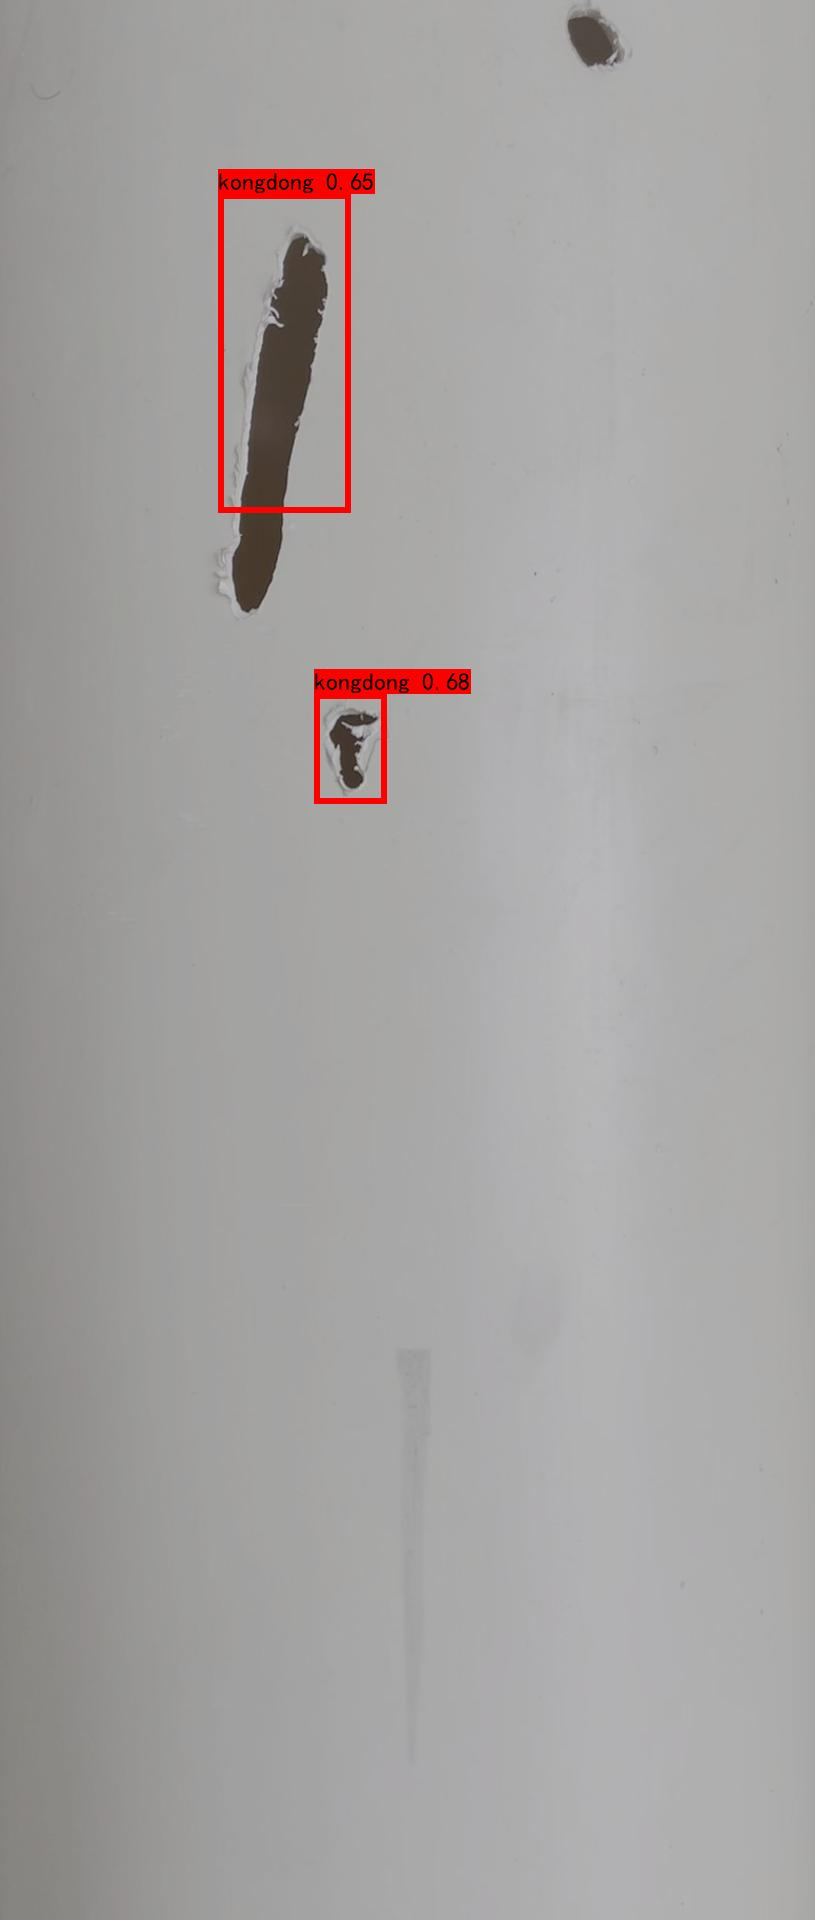fengxi: (223, 216, 337, 626)
kongdong: (302, 696, 381, 795), (560, 9, 623, 83)
